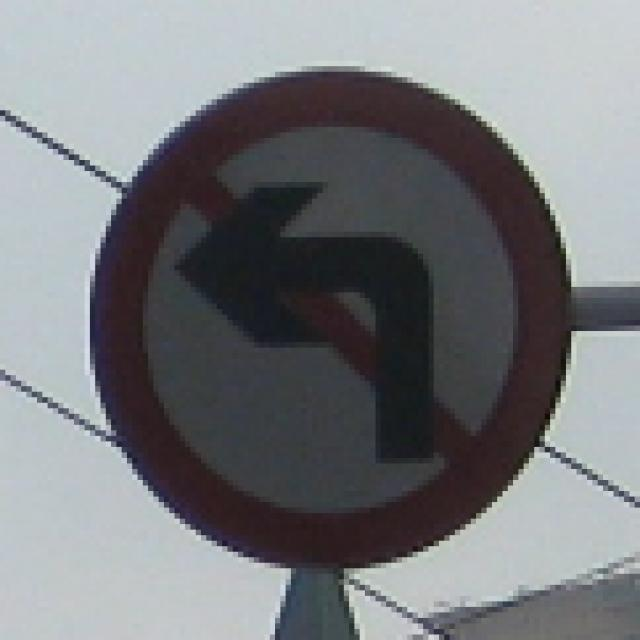Not that Direction: (97, 69, 562, 572)
